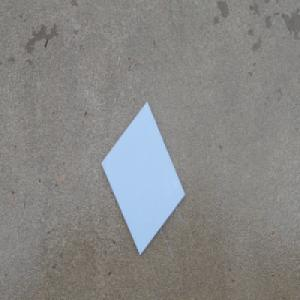PaintChip: (99, 99, 186, 258)
